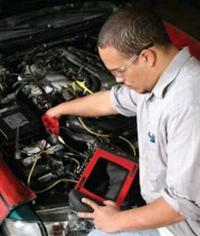person: (44, 9, 200, 236)
